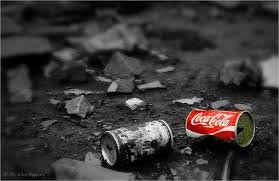Coca-Cola: (195, 114, 230, 132)
